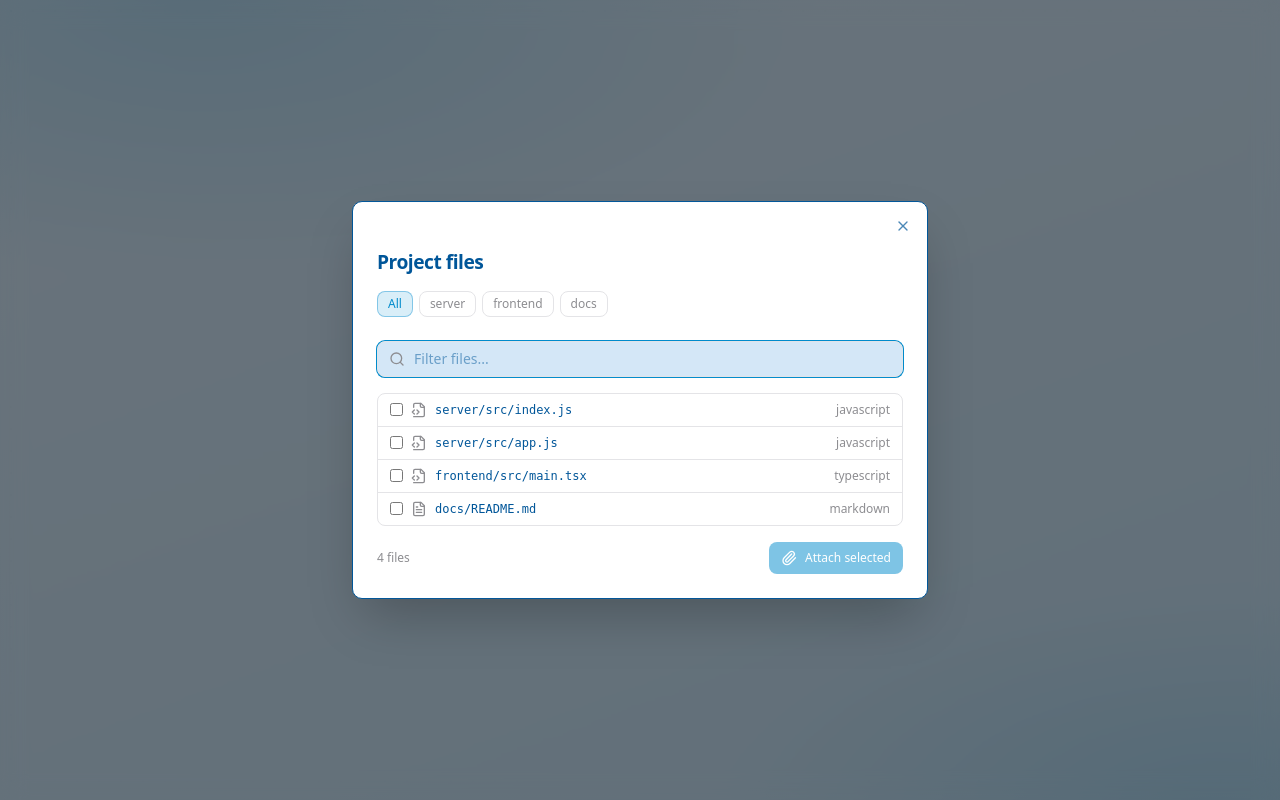
Test: BrowseDialog — dir chips (ТЗ attach-files-for-project-mode §3.2) › clicking a dir chip filters files to that dir
Check: the text "server/src/index.js" is shown, box 435,403 -> 572,417
Check: the text "frontend/src/main.tsx" is shown, box 435,469 -> 587,483
# Click "server" chip
Click the button "server".
click(448, 304)  # box 419,291 -> 476,317
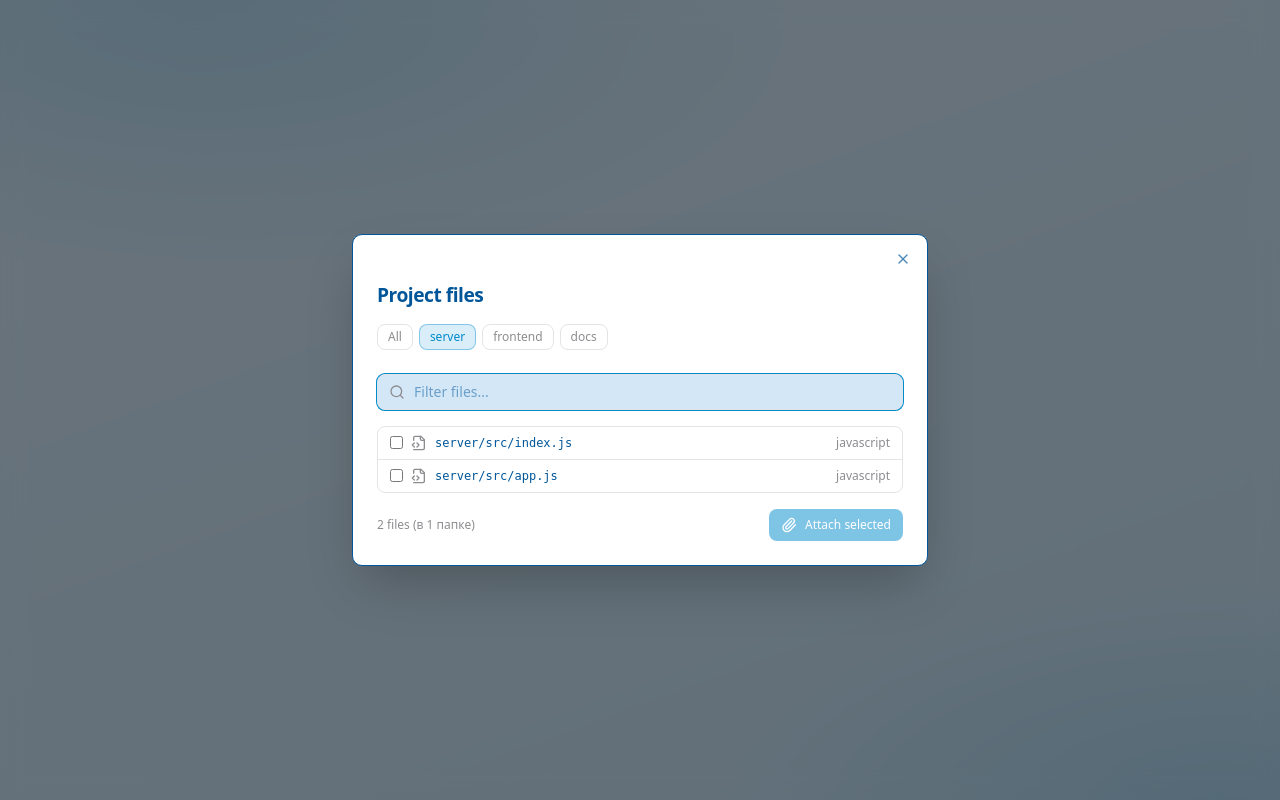
Check: the text "server/src/index.js" is shown, box 435,436 -> 572,450
Check: the text "frontend/src/main.tsx" is gone
Check: the text "docs/README.md" is gone
